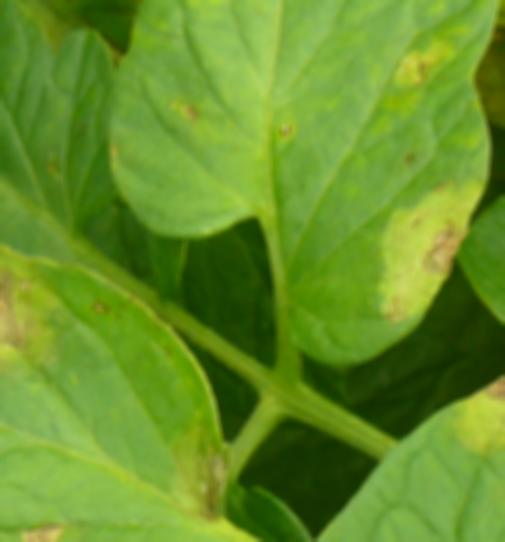Tomato Early blight leaf: (106, 3, 503, 352), (0, 203, 269, 542)
